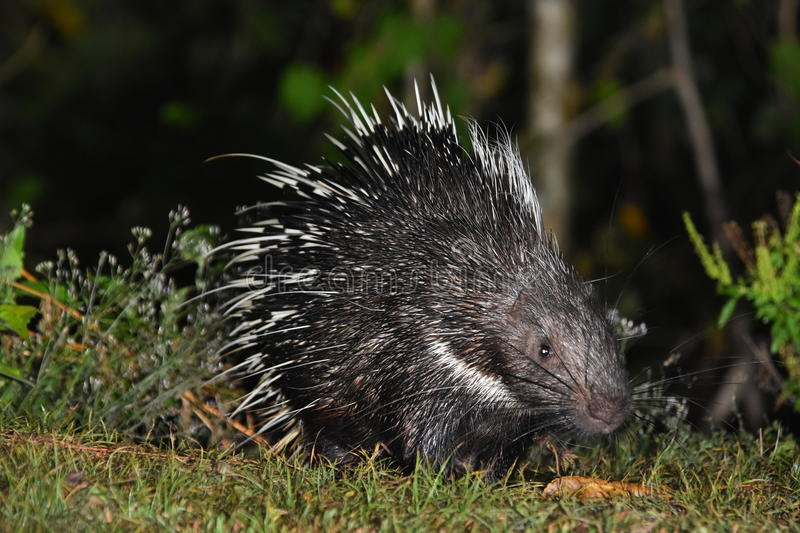porcupine: (186, 77, 636, 478)
